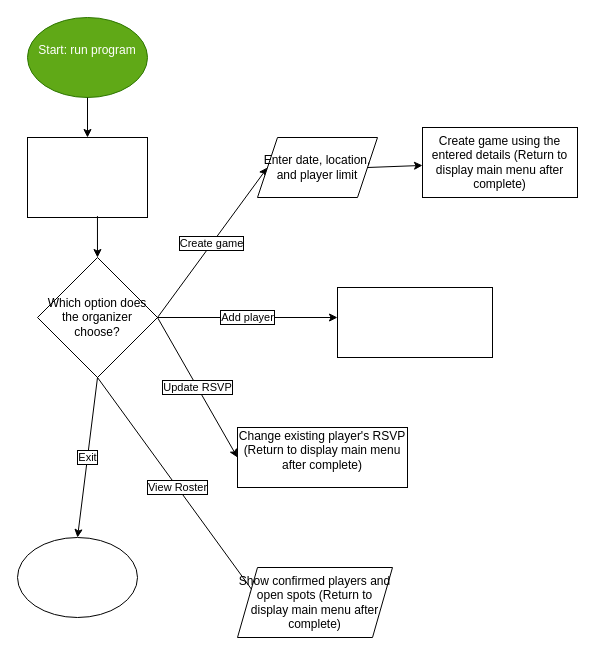
Image size: 595x655. Some labels were removed from this diagram. Here are the shapes that lost their labels. From the top down, the centre of each, then its label:
At pixel 87 177: "Display main menu".
At pixel 414 322: "Add player and RSVP to active game (Return to display main menu after complete)".
At pixel 77 577: "END: close program".
